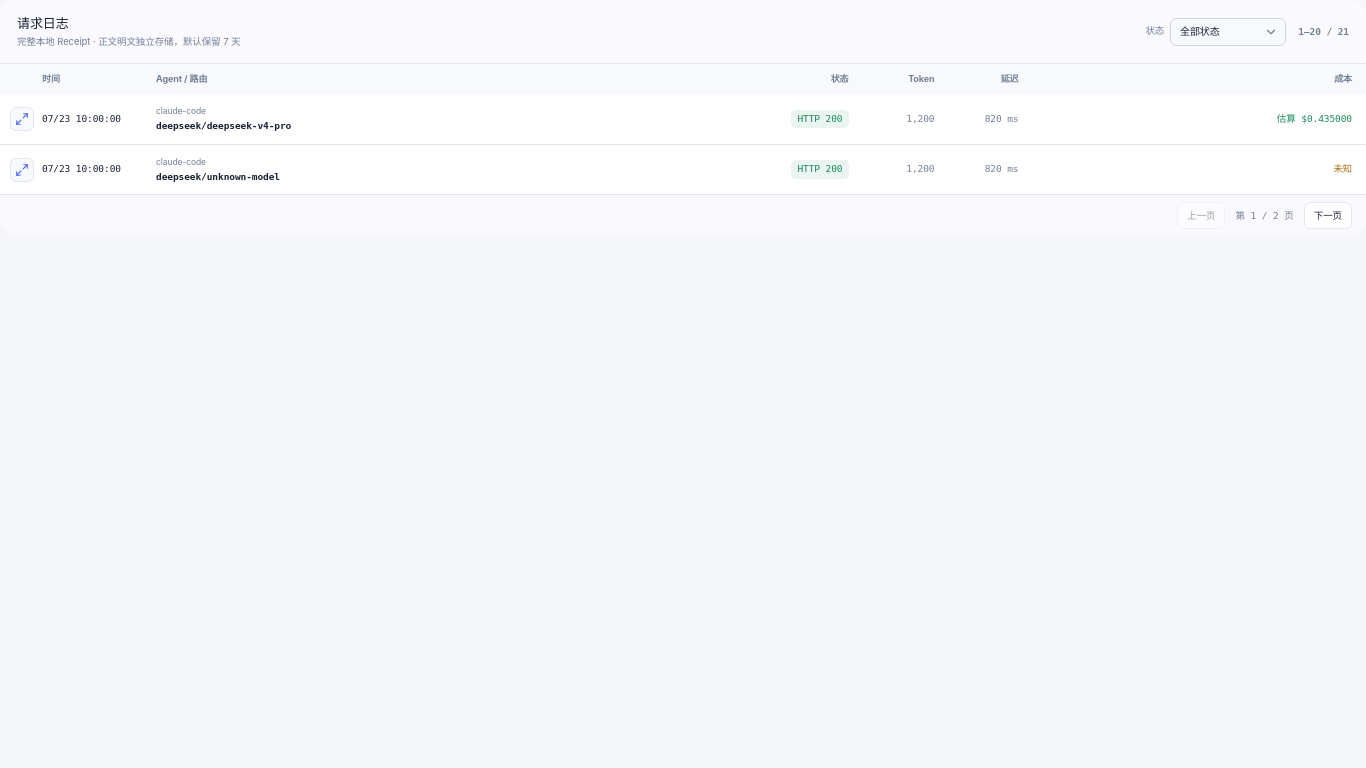
UsageRequestLog › explains when an older receipt has no retained plaintext
Click the text "deepseek/unknown-model" at (218, 176), box [156,171,280,182]
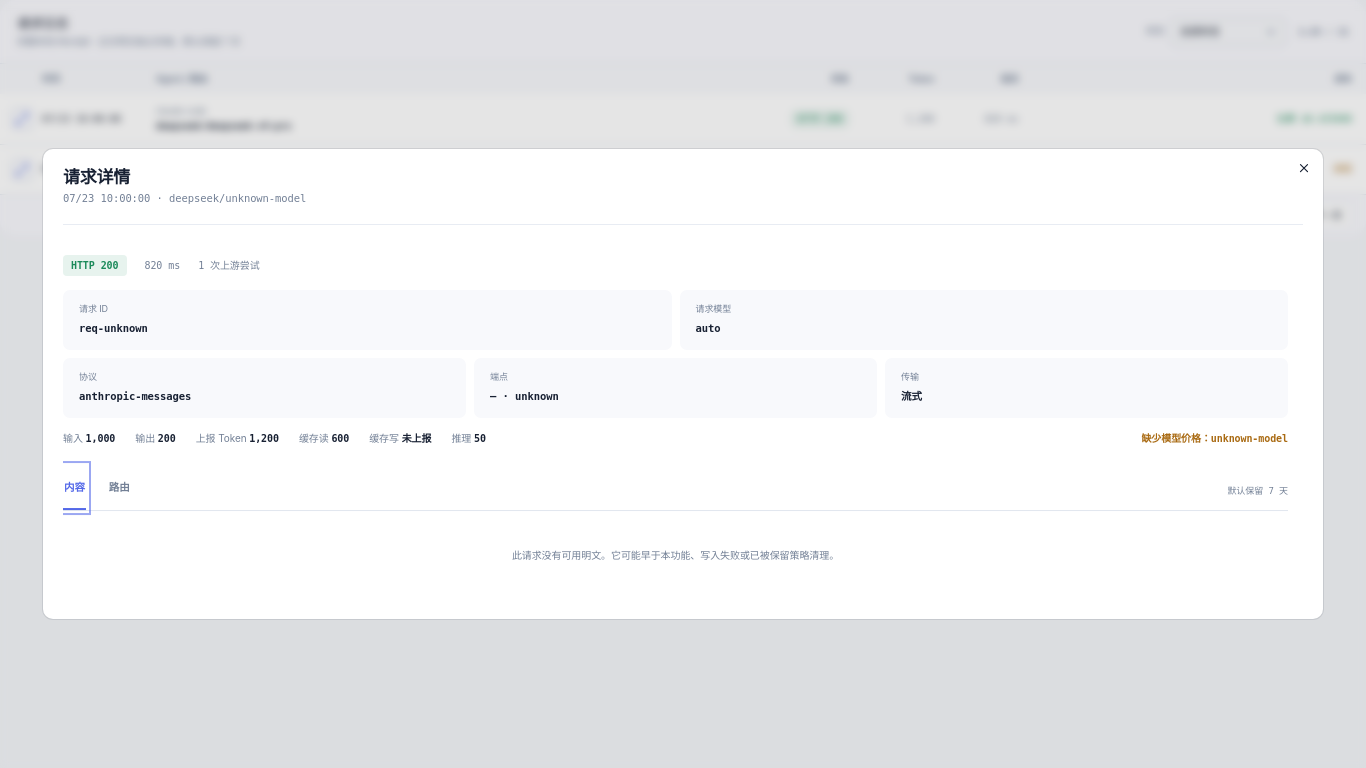
Result: the message reads "此请求没有可用明文。它可能早于本功能、写入失败或已被保留策略清理。" at [512,549,839,561]
